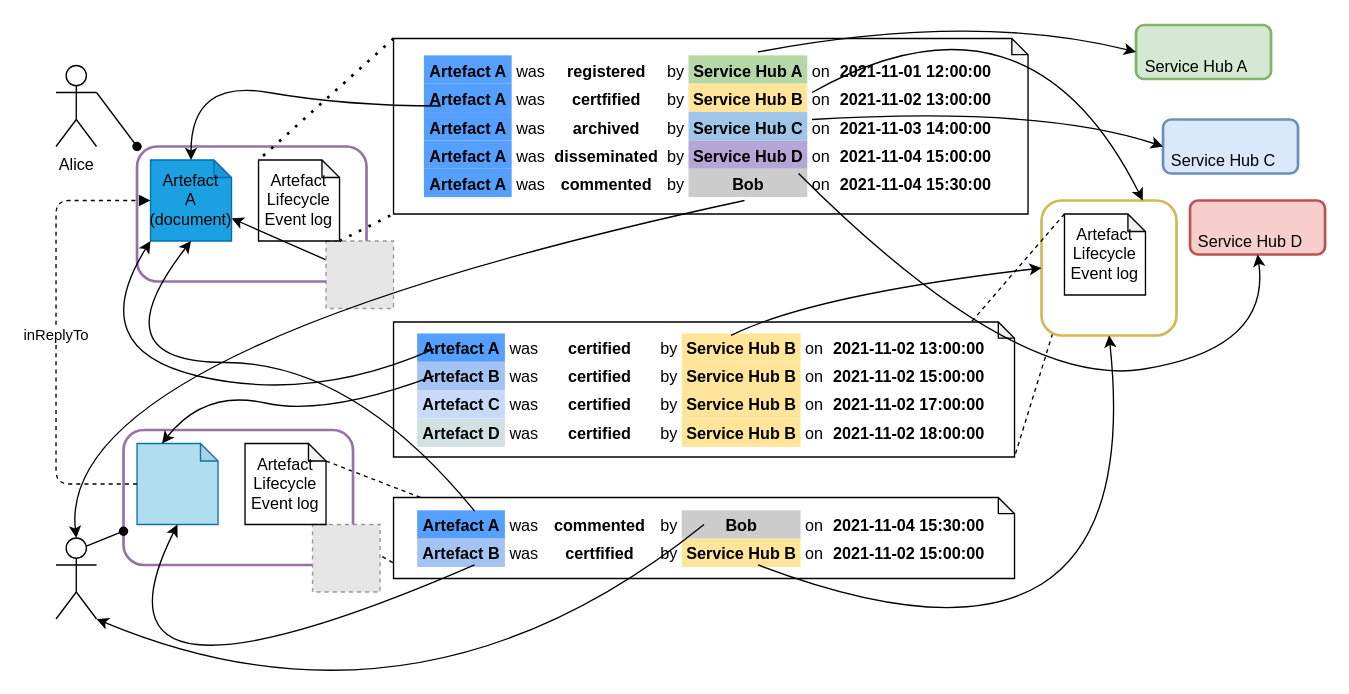
Image size: 1349x694. Some labels were removed from this diagram. Grey dashed boxes stand in for pictures. The shapes that lost their labels are listed below. From the top down, each one's box as (x1, y1, x2, y2) in pixels, then its label:
(135, 144, 367, 282): Alice's Data Pod
(1040, 198, 1177, 336): Service Hub B
(136, 442, 218, 524): Artefact B (comment)
(122, 428, 354, 566): Bob's Data Pod
(55, 537, 97, 619): Bob
